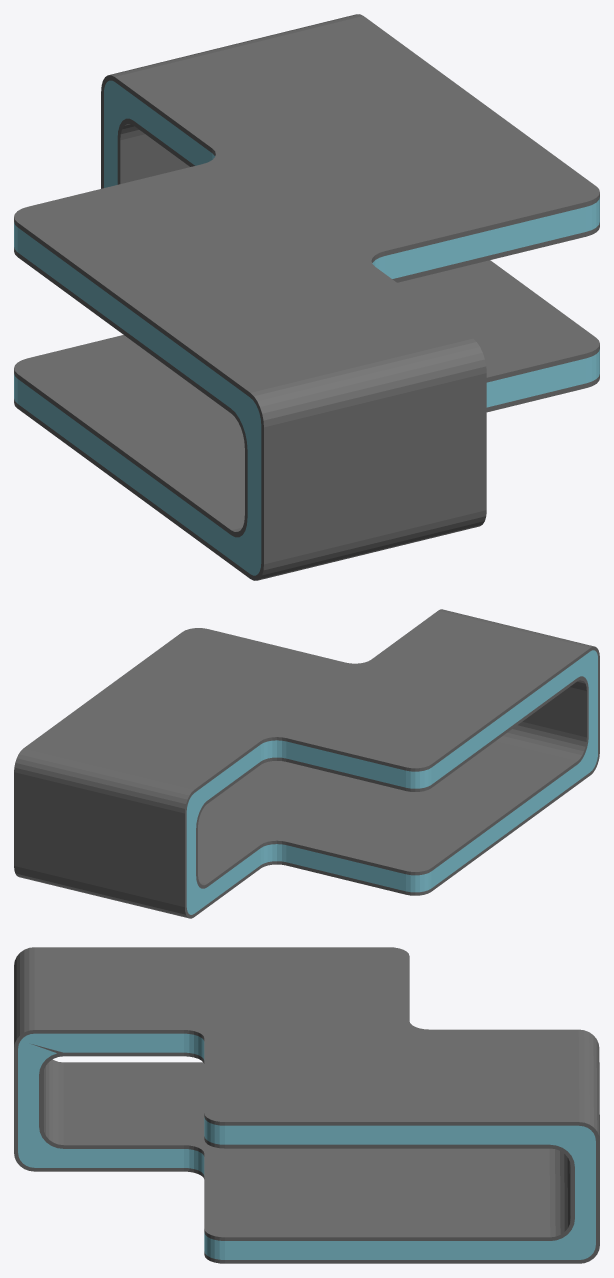
File: stand1.fbx
3 views of the same model, one above another, from view 1: azimuth 30°, elevation 25°; view 2: azimuth 150°, elevation 25°; view 3: azimuth 270°, elevation 25° (orthographic). The views are drawn at different scales.
Parts seen in each view (by area): view 1: stand1; view 2: stand1; view 3: stand1.
Part boxes in pixels (x1,y1,x2,y2): stand1: (14,14,599,580); stand1: (14,609,599,918); stand1: (14,947,599,1263).
Bounding box in the file's own units: 4.88 × 6.91 × 1.84.
